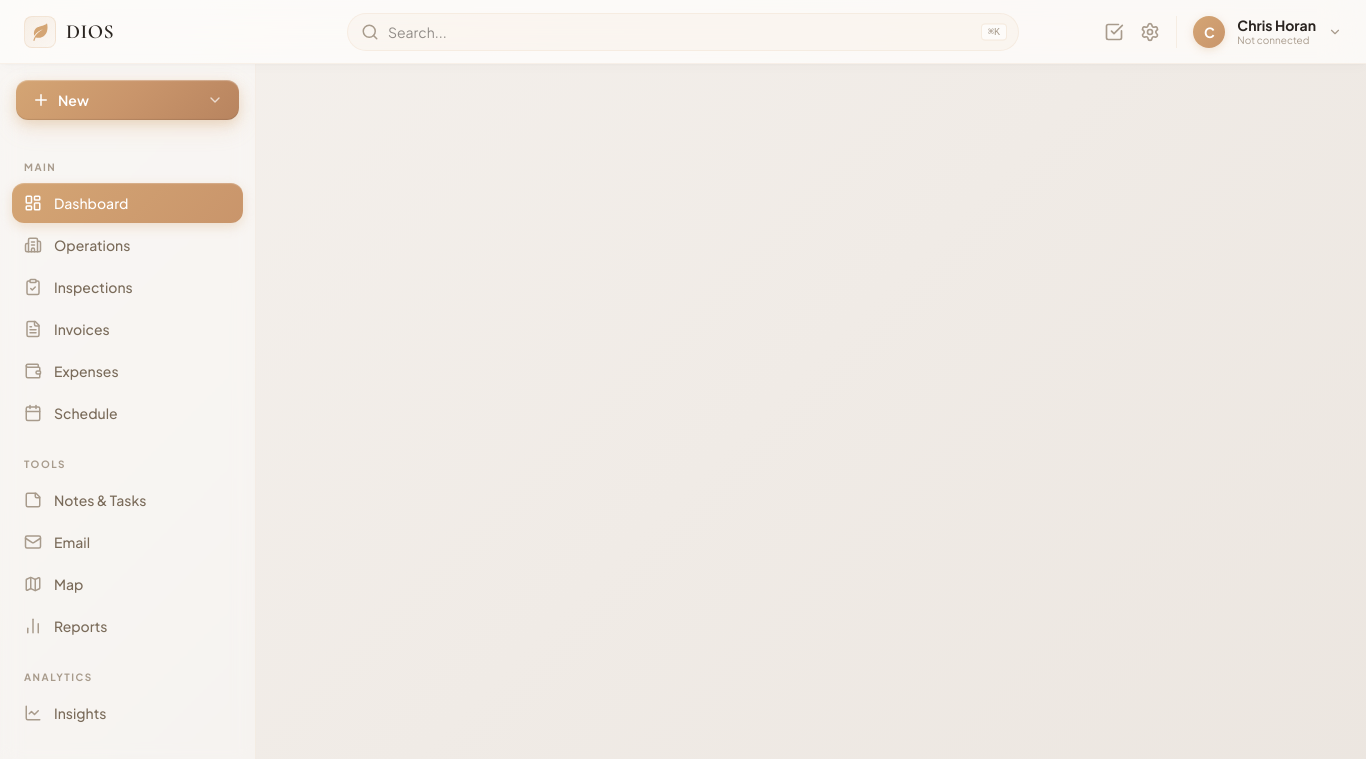
Scenario: Layout › shows "No results found" when search matches nothing
The image size is (1366, 759).
Click the field with placeholder "Search...": [683, 32] box [347,12,1019,50]
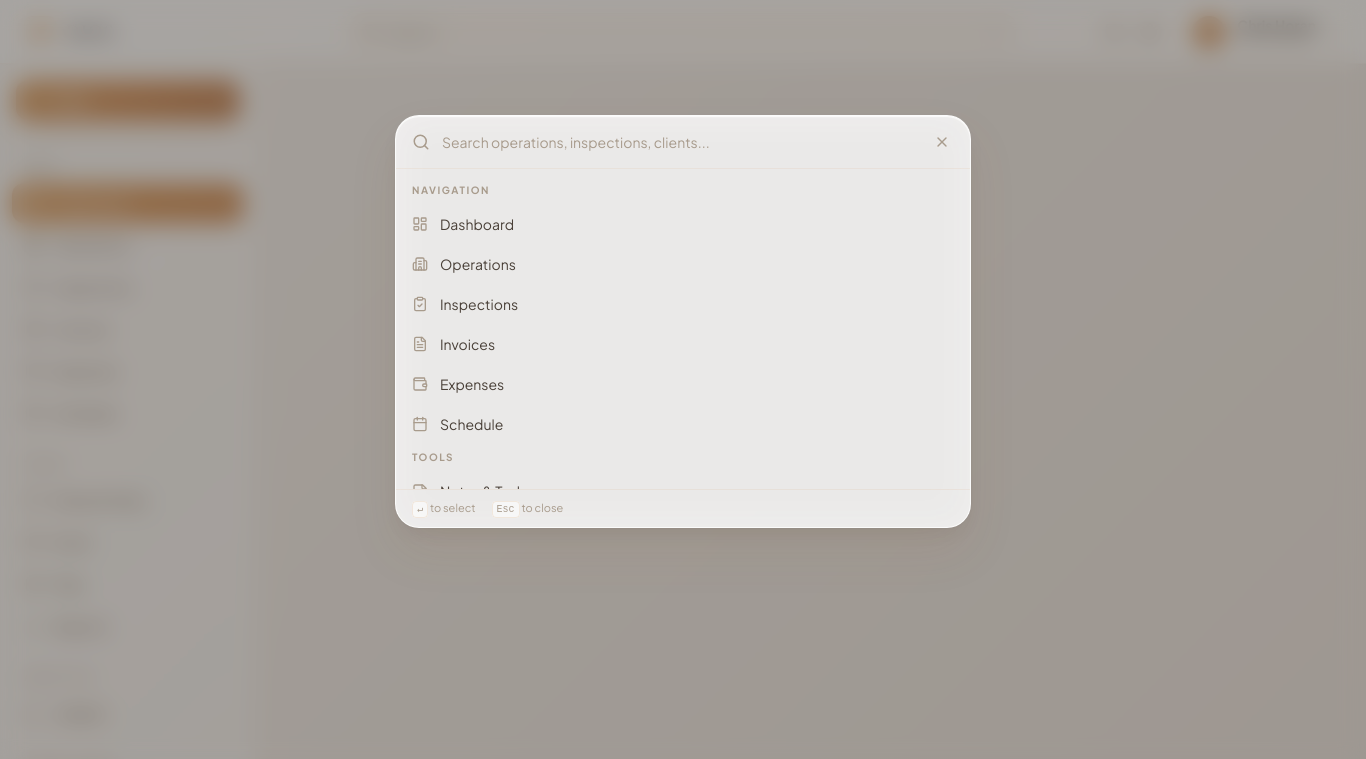
In the field with placeholder "Search operations, inspections, clients...": [680, 142] box [442,132,918,152], type "xyznonexistent"
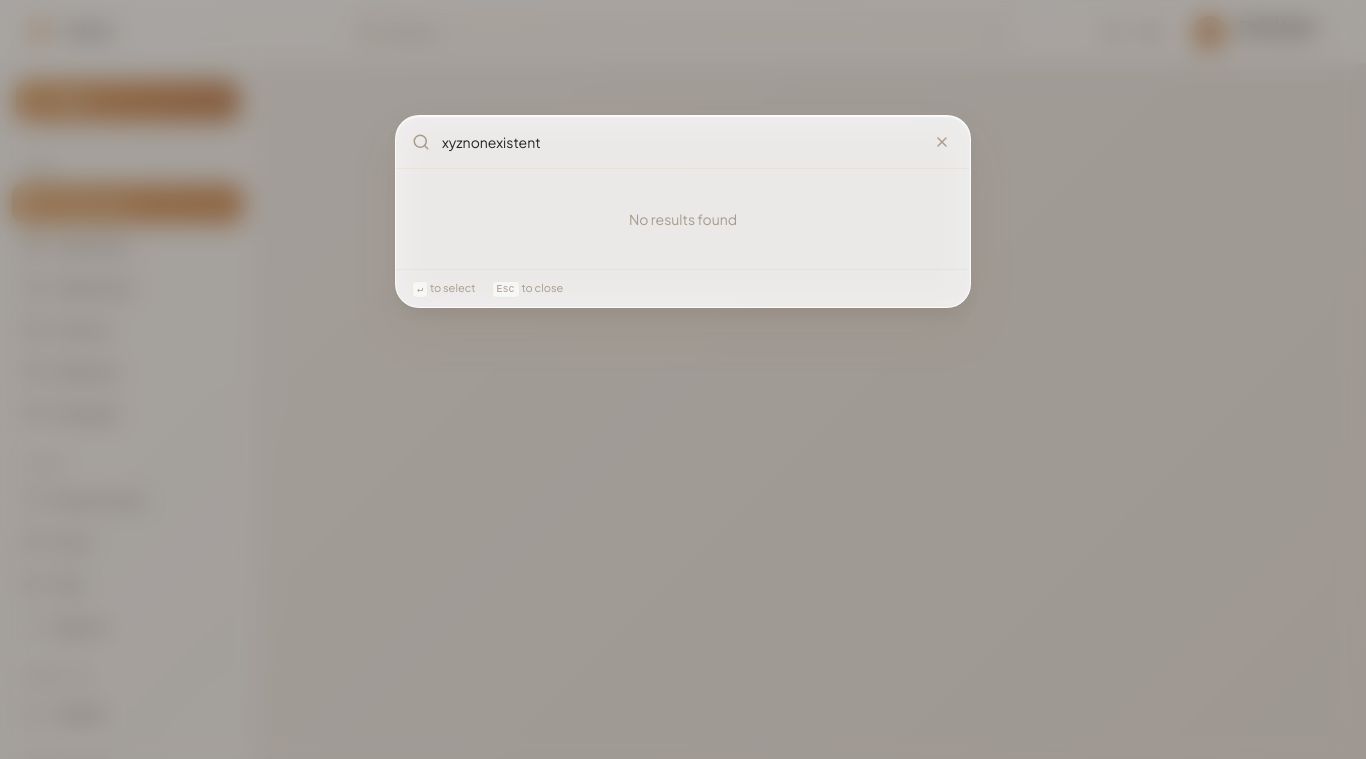
Expected: the text "No results found" is shown, [629,210,737,228]
